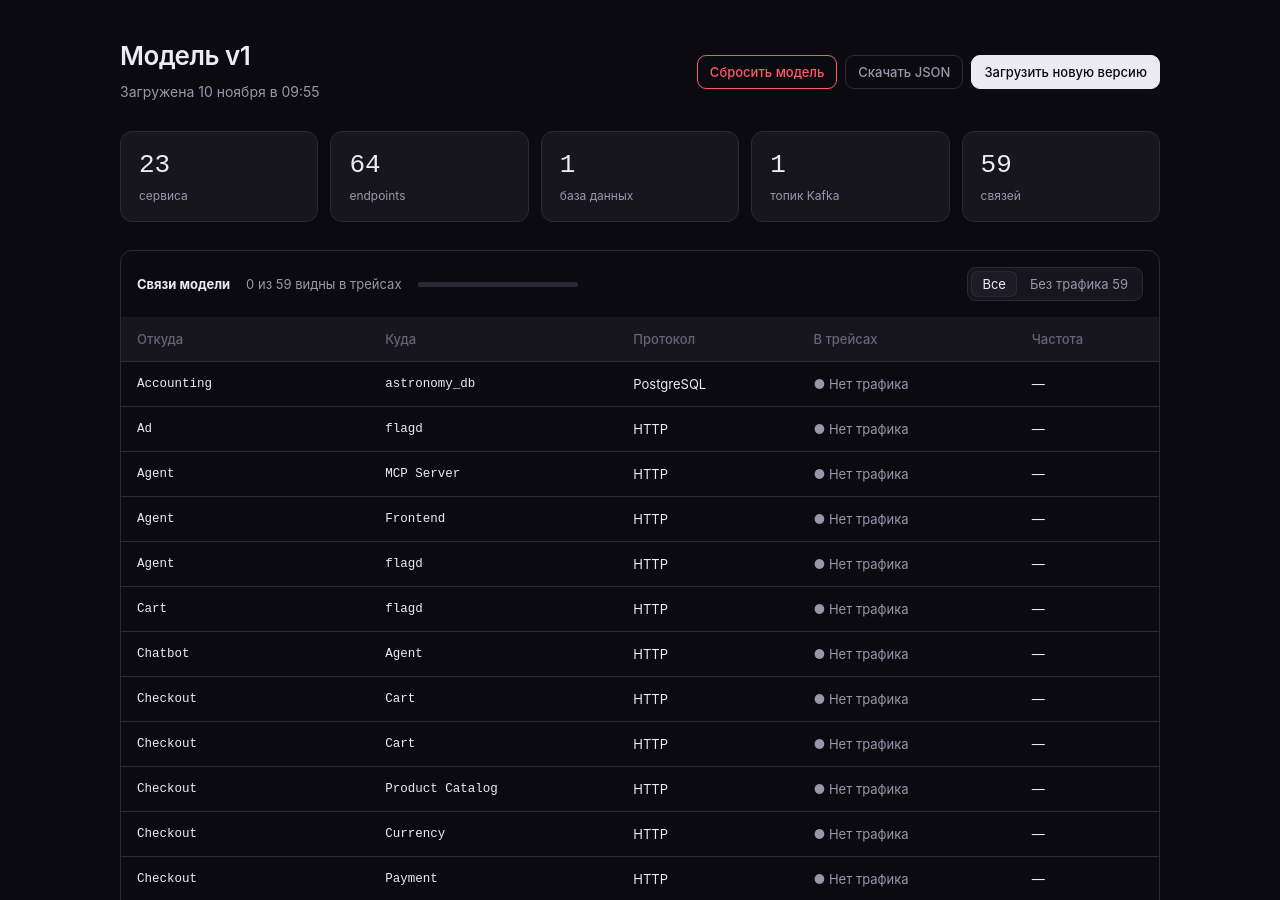
Scenario: asks before resetting and leaves the model on cancel or escape
This screenshot has width=1280, height=900.
Click the button "Сбросить модель" at (767, 72), box left=697, top=55, right=837, bottom=89
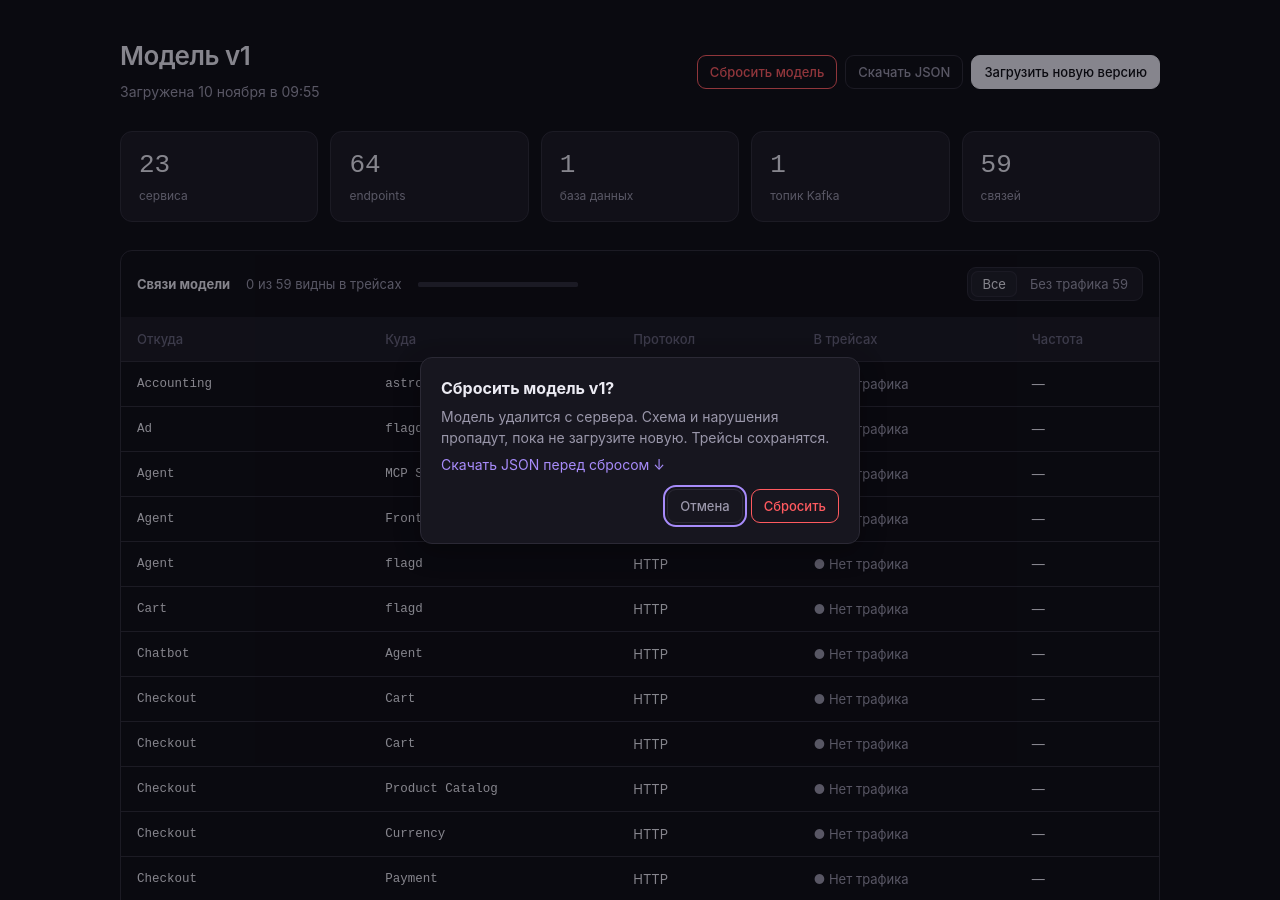
Now the dialog shows "Сбросить модель v1?", box left=441, top=378, right=598, bottom=398
Click the button "Отмена" at (705, 506), box left=667, top=488, right=743, bottom=522
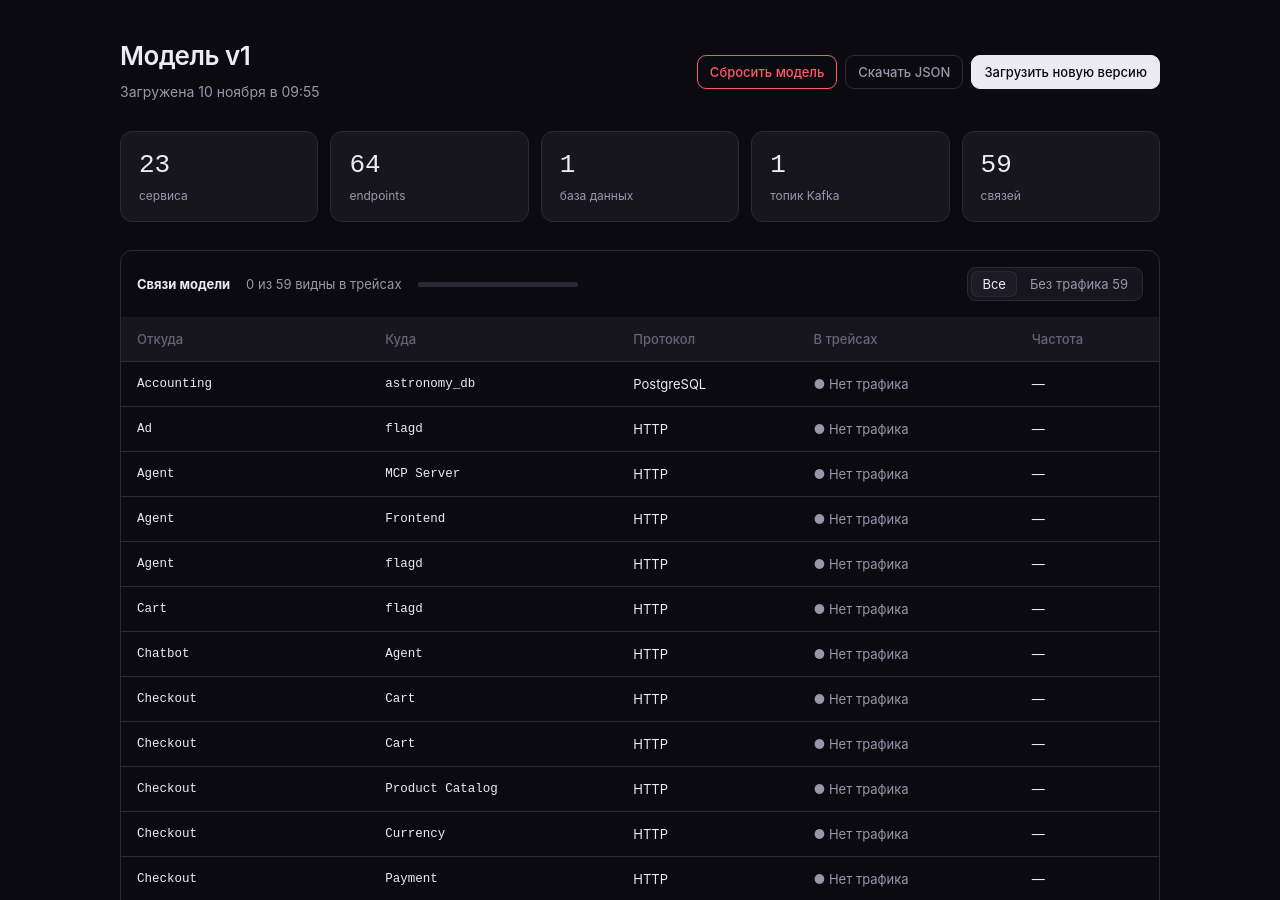
Now the dialog is gone
Click the button "Сбросить модель" at (767, 72), box left=697, top=55, right=837, bottom=89
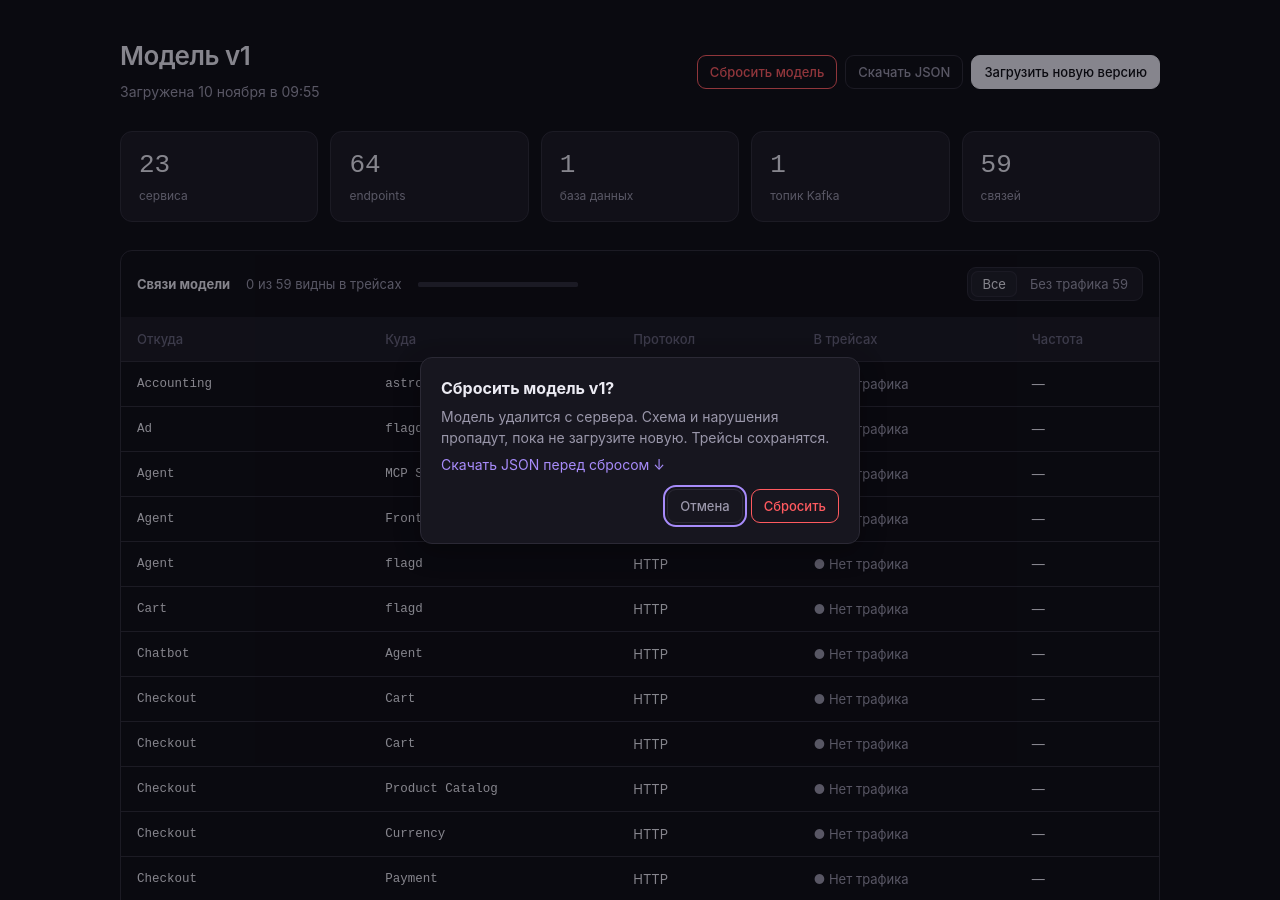
Press Escape
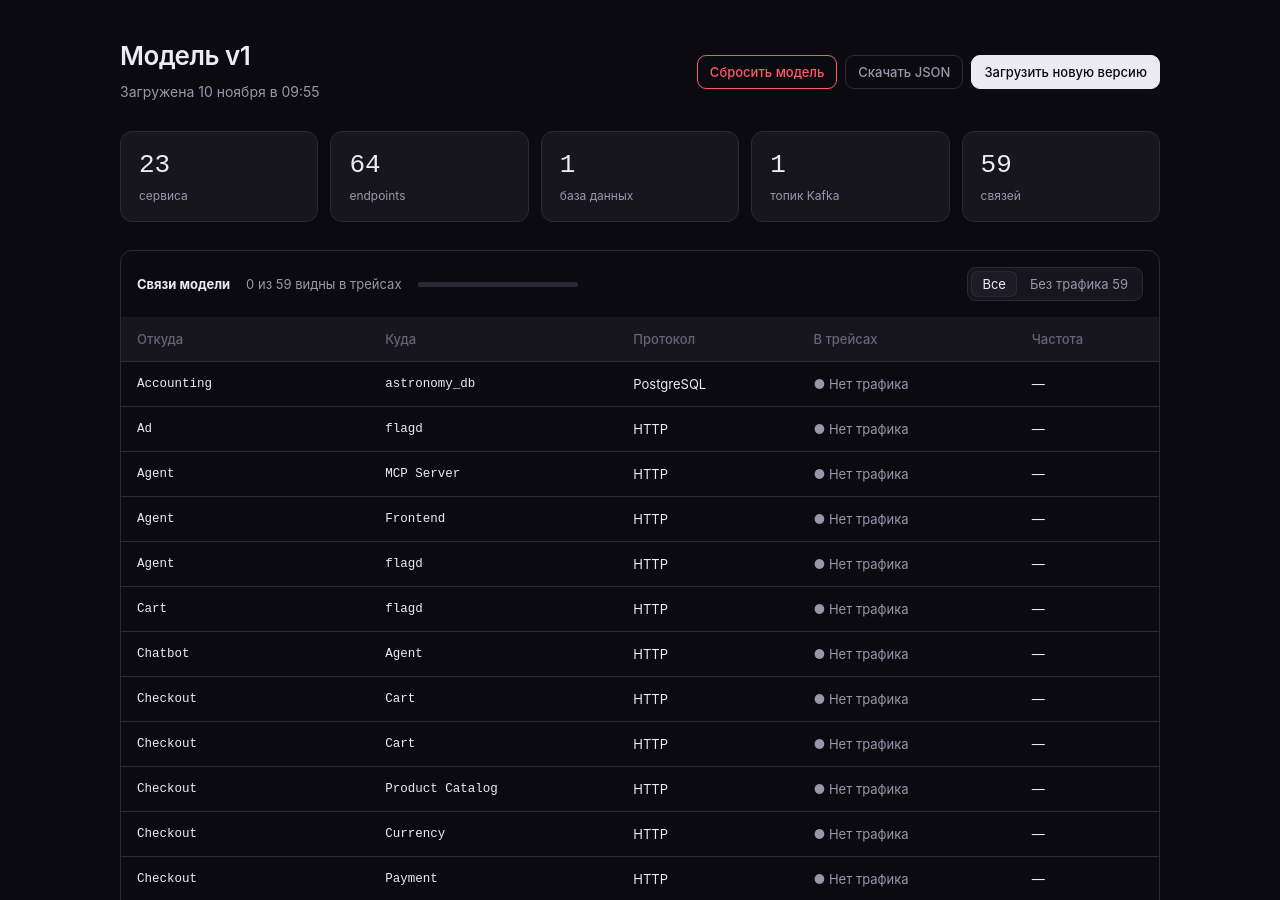
Now the dialog is gone
